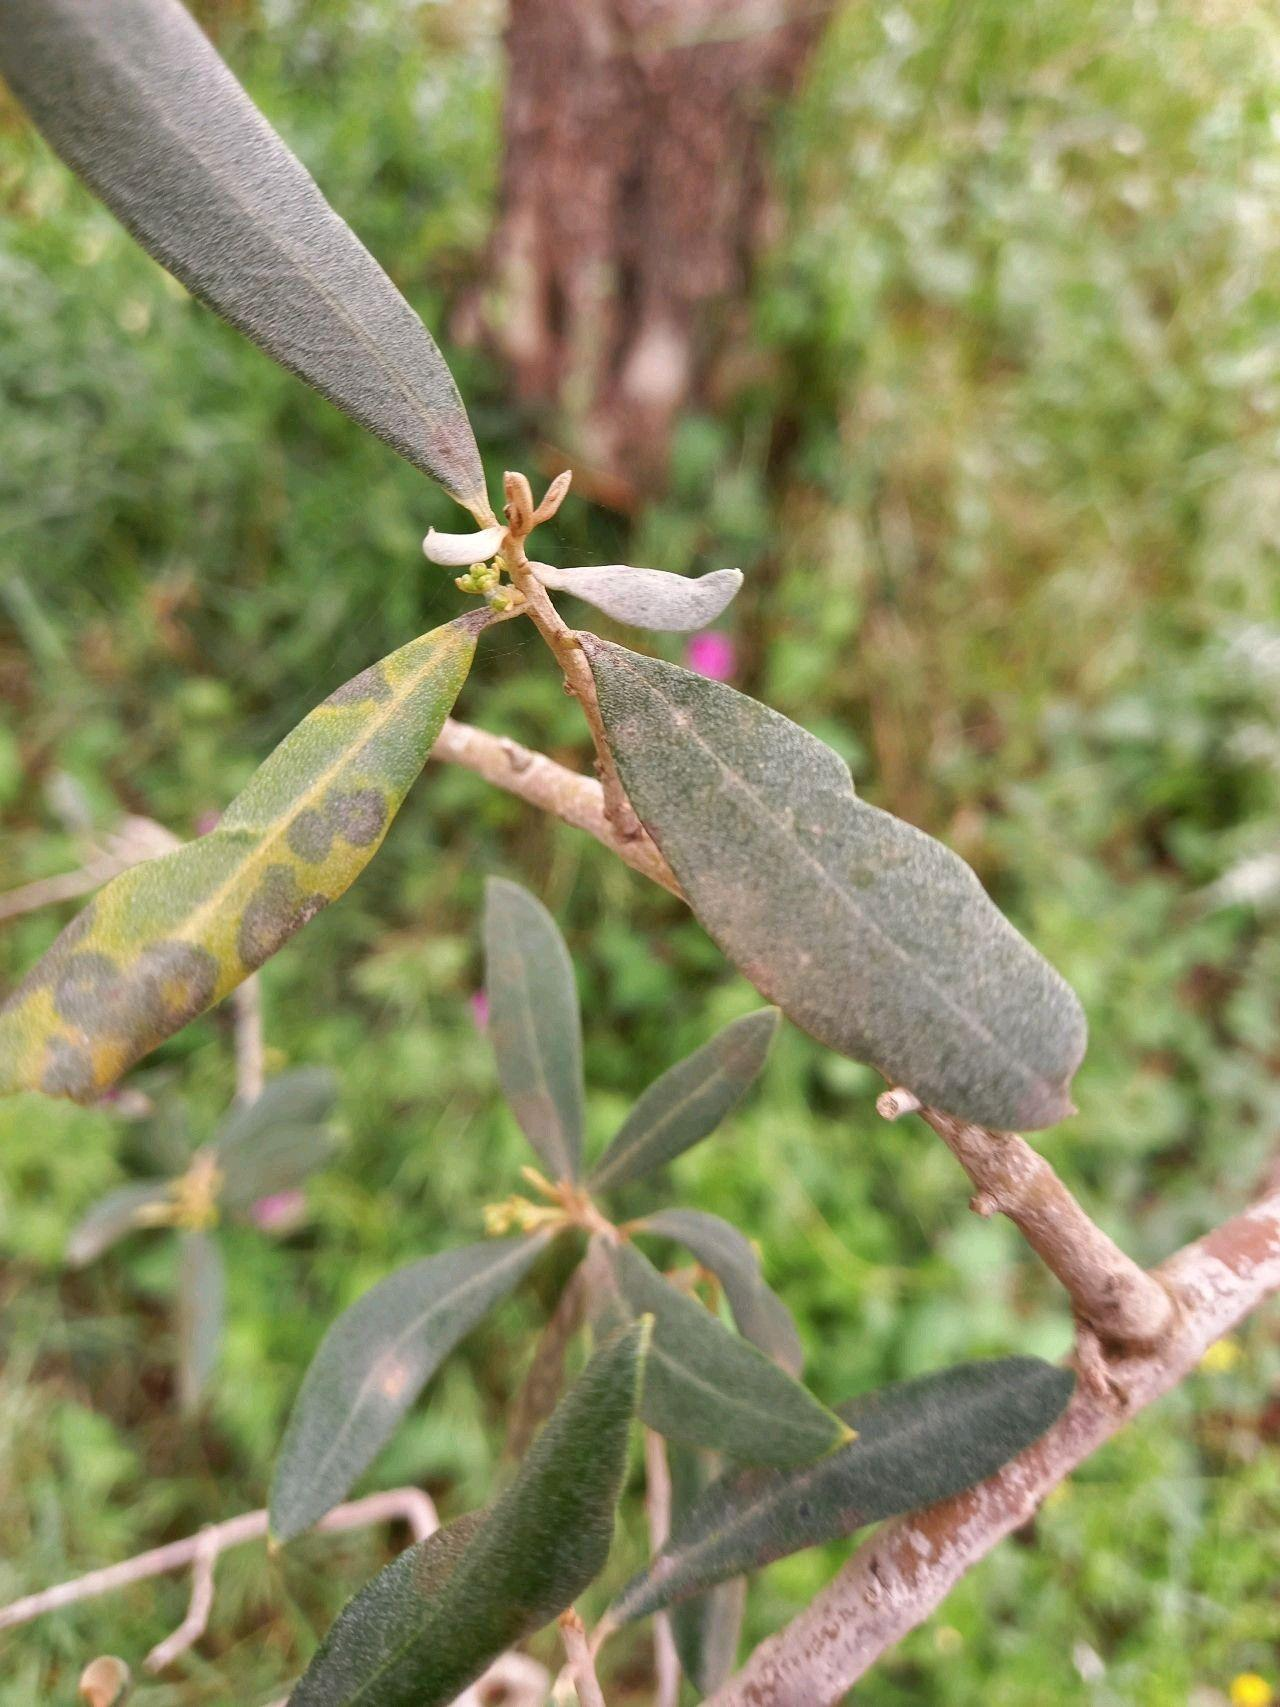OlivePeacockSpot: (0, 634, 475, 1120), (278, 1310, 660, 1707), (594, 1348, 1073, 1644), (475, 878, 597, 1181)
